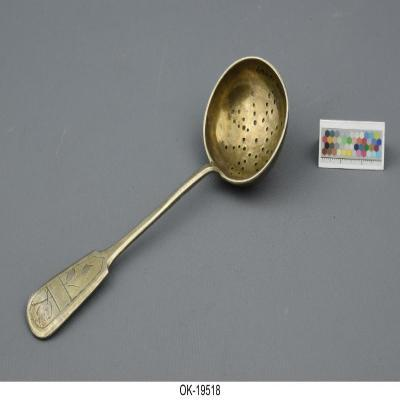dpi: (26, 57, 288, 341)
